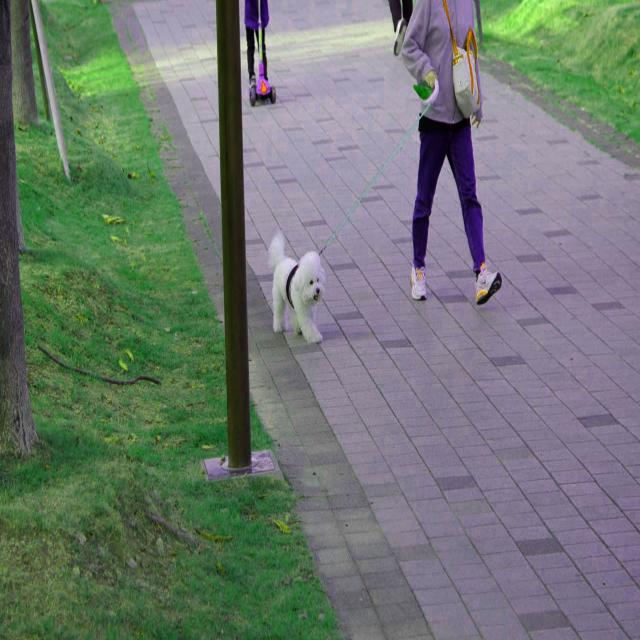Leashed_Dog: (267, 64, 447, 345)
